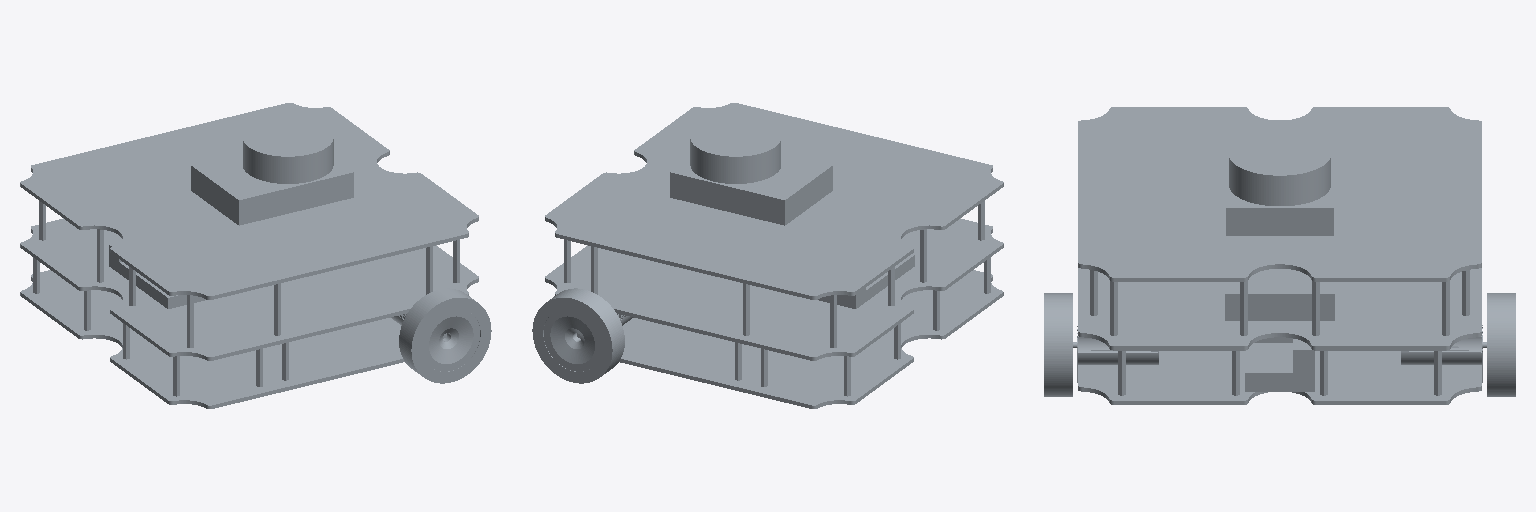
The robot description file, URDF, robot "Robot":
<?xml version="1.0" ?>
<robot name="Robot">
  <!--Generated by RobotCAD, a ROS Workbench for FreeCAD (https://github.com/drfenixion/freecad.robotcad)-->
  <link name="l_Wheel__L_001">
    <visual>
      <!--Wheel (L)001/Wheel__L_001.-->
      <origin rpy="1.5707963267948968 0 0" xyz="-0.08 0.0195 -0.1395"/>
      <geometry>
        <mesh filename="package://waffle/meshes/wheell.dae"/>
      </geometry>
    </visual>
    <collision>
      <!--col__l_Wheel__L_001__col_Wheel__L_001__BoundCylinder/col_Wheel__L_001__BoundCylinder.-->
      <origin rpy="3.141592653589793 0 0" xyz="-3.15031e-05 2.79517e-05 0.0004"/>
      <geometry>
        <cylinder length="0.017800000000020362" radius="0.033"/>
      </geometry>
    </collision>
    <inertial>
      <mass value="0.043601147614822436"/>
      <origin rpy="1.5707963267948968 0 0" xyz="0.0 0.0 0.00118257"/>
      <inertia ixx="1.577782788441679e-05" ixy="-6.2798427186857995e-22" ixz="-9.942974429577587e-20" iyy="2.9339850564096343e-05" iyz="-5.048348234242562e-21" izz="1.5777827884416974e-05"/>
    </inertial>
  </link>
  <link name="l_KORPUS001">
    <visual>
      <!--KORPUS001/KORPUS001.-->
      <origin rpy="0 0 0" xyz="0.154 0.0 0.0"/>
      <geometry>
        <mesh filename="package://waffle/meshes/korpus.dae"/>
      </geometry>
    </visual>
    <collision>
      <!--col__l_KORPUS001__col_KORPUS001__BoundBox/col_KORPUS001__BoundBox.-->
      <origin rpy="0 0 0" xyz="0.154 0.0 0.0445"/>
      <geometry>
        <box size="0.25600000000001 0.256 0.089"/>
      </geometry>
    </collision>
    <inertial>
      <mass value="1.0672015800545729"/>
      <origin rpy="0 0 0" xyz="0.165714 0.000388799 0.046576"/>
      <inertia ixx="0.005569031350553697" ixy="5.579935588393991e-06" ixz="7.324649243436483e-05" iyy="0.006047416907593671" iyz="1.8880391202896584e-06" izz="0.008902887486509463"/>
    </inertial>
  </link>
  <link name="l_Lidar__U_001">
    <visual>
      <!--Lidar (U)001/Lidar__U_001.-->
      <origin rpy="0 0 0" xyz="-0.0315 0.0 -0.11"/>
      <geometry>
        <mesh filename="package://waffle/meshes/lidaru.dae"/>
      </geometry>
    </visual>
    <collision>
      <!--col__l_Lidar__U_001__col_Lidar__U_001__BoundCylinder/col_Lidar__U_001__BoundCylinder.-->
      <origin rpy="3.1415926535897927 0 0" xyz="0.0 0.0 0.01025"/>
      <geometry>
        <cylinder length="0.020500000000000008" radius="0.0325"/>
      </geometry>
    </collision>
    <inertial>
      <mass value="0.07210681633289717"/>
      <origin rpy="1.5707963267948963 0 0" xyz="0.0 0.0 0.01025"/>
      <inertia ixx="2.1565948044897253e-05" ixy="1.0863086419724232e-22" ixz="2.2639691917970496e-21" iyy="3.80814134358115e-05" iyz="-7.5197021942585705e-22" izz="2.156594804489762e-05"/>
    </inertial>
  </link>
  <link name="l_Wheel__R_001">
    <visual>
      <!--Wheel (R)001/Wheel__R_001.-->
      <origin rpy="1.5707963267948968 0 0" xyz="-0.08 0.0195 0.1395"/>
      <geometry>
        <mesh filename="package://waffle/meshes/wheelr.dae"/>
      </geometry>
    </visual>
    <collision>
      <!--col__l_Wheel__R_001__col_Wheel__R_001__BoundCylinder/col_Wheel__R_001__BoundCylinder.-->
      <origin rpy="3.141592653589793 0 0" xyz="-4.3397e-05 1.6055e-05 -0.0004"/>
      <geometry>
        <cylinder length="0.017800000000020362" radius="0.033"/>
      </geometry>
    </collision>
    <inertial>
      <mass value="0.04360114761482241"/>
      <origin rpy="1.5707963267948968 0 0" xyz="0.0 0.0 -0.00118257"/>
      <inertia ixx="1.5777827884416784e-05" ixy="-4.0707372526200396e-21" ixz="-8.882117981556801e-20" iyy="2.9339850564096333e-05" iyz="-2.8030574348342357e-21" izz="1.5777827884416967e-05"/>
    </inertial>
  </link>
  <joint name="l_KORPUS001__to__l_Wheel__L_001" type="continuous">
    <parent link="l_KORPUS001"/>
    <child link="l_Wheel__L_001"/>
    <origin rpy="-1.5707963267948963 0 0" xyz="0.234 0.14 0.0195"/>
    <axis xyz="0 0 1"/>
    <limit effort="10.0" velocity="20.0"/>
  </joint>
  <joint name="l_KORPUS001__to__l_Lidar__U_001" type="fixed">
    <parent link="l_KORPUS001"/>
    <child link="l_Lidar__U_001"/>
    <origin rpy="0 0 -3.141592653589793" xyz="0.1855 0.0 0.11"/>
  </joint>
  <joint name="l_KORPUS001__to__l_Wheel__R_001" type="continuous">
    <parent link="l_KORPUS001"/>
    <child link="l_Wheel__R_001"/>
    <origin rpy="-1.5707963267948963 0 0" xyz="0.234 -0.14 0.0195"/>
    <axis xyz="0 0 1"/>
    <limit effort="10.0" velocity="20.0"/>
  </joint>
  <gazebo>
  <plugin filename="gz-sim-diff-drive-system" name="gz::sim::systems::DiffDrive">
    <!-- Имена левых колёс -->
    <left_joint>l_KORPUS001__to__l_Wheel__L_001</left_joint>
    <!-- Имена правых колёс -->
    <right_joint>l_KORPUS001__to__l_Wheel__R_001</right_joint>
    <!-- Геометрия робота -->
    <wheel_separation>0.2798</wheel_separation>
    <wheel_radius>0.0330</wheel_radius>
    <!-- Топики ROS 2 -->
    <topic>/cmd_vel</topic>
    <odom_topic>/odom</odom_topic>
    <tf_topic>/tf</tf_topic>
    <frame_id>odom</frame_id>
    <child_frame_id>l_KORPUS001</child_frame_id>
  </plugin>
</gazebo>
</robot>

--- Facts derived from the render (not from the file) ---
The picture shows the robot from 3 angles, left to right: view 1: azimuth 30°, elevation 25°; view 2: azimuth 150°, elevation 25°; view 3: azimuth 270°, elevation 25°; orthographic projection.
Robot: Robot — 4 links, 3 joints (2 continuous, 1 fixed); root link l_KORPUS001; default pose: all joints at 0.
Visible links, largest first — view 1: l_KORPUS001, l_Wheel__R_001, l_Lidar__U_001; view 2: l_KORPUS001, l_Wheel__L_001, l_Lidar__U_001; view 3: l_KORPUS001, l_Lidar__U_001, l_Wheel__L_001, l_Wheel__R_001.
Boxes of the visible links, x1,y1,x2,y2 form: l_KORPUS001: [20, 103, 478, 408]; l_Wheel__R_001: [399, 288, 491, 383]; l_Lidar__U_001: [243, 118, 333, 182]; l_KORPUS001: [545, 103, 1003, 408]; l_Wheel__L_001: [532, 288, 624, 383]; l_Lidar__U_001: [690, 118, 780, 182]; l_KORPUS001: [1073, 107, 1486, 404]; l_Lidar__U_001: [1229, 132, 1330, 204]; l_Wheel__L_001: [1487, 293, 1515, 396]; l_Wheel__R_001: [1044, 293, 1072, 396].
Size in the robot's own frame: 0.256 by 0.2986 by 0.144 metres.
4 mesh visuals loaded from 4 distinct referenced files (4 Collada DAE).
